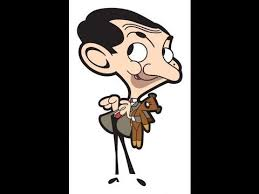mrbean: (76, 7, 183, 186)
